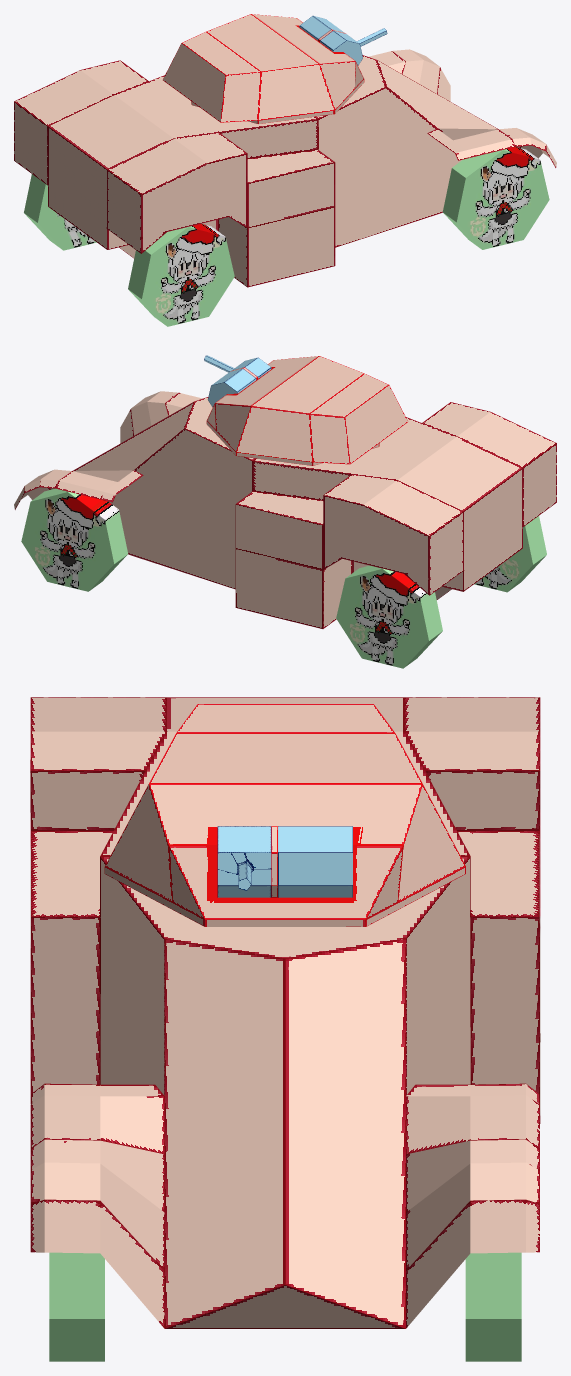
Rendered from AML-60-mkII.glb.
3 views of the same model, one above another, from view 1: azimuth 30°, elevation 25°; view 2: azimuth 150°, elevation 25°; view 3: azimuth 270°, elevation 25° (orthographic). The views are drawn at different scales.
Visible parts, largest first — view 1: body, turrent, wheel-F-R, wheel-R-R, wheel-R-L, manlet; view 2: body, turrent, wheel-F-L, wheel-R-L, wheel-R-R, manlet; view 3: body, turrent, manlet, wheel-F-L, wheel-F-R.
Boxes of the visible parts, x1,y1,x2,y2 form: body: [14, 49, 556, 287]; turrent: [163, 14, 364, 123]; wheel-F-R: [443, 147, 549, 249]; wheel-R-R: [128, 224, 234, 326]; wheel-R-L: [24, 174, 96, 250]; manlet: [299, 15, 387, 65]; body: [14, 391, 556, 628]; turrent: [206, 356, 407, 465]; wheel-F-L: [21, 488, 127, 591]; wheel-R-L: [336, 565, 442, 668]; wheel-R-R: [474, 516, 546, 592]; manlet: [204, 355, 271, 407]; body: [30, 697, 540, 1328]; turrent: [104, 704, 465, 926]; manlet: [217, 826, 352, 897]; wheel-F-L: [465, 1252, 521, 1361]; wheel-F-R: [49, 1252, 104, 1361].
Size of the model in its own units: 3.66 by 1.66 by 1.9.
4 materials, 4 textured.
